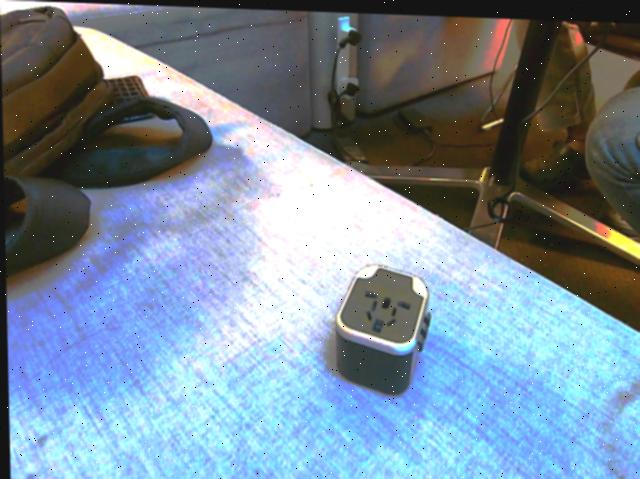adapter: (330, 259, 431, 393)
